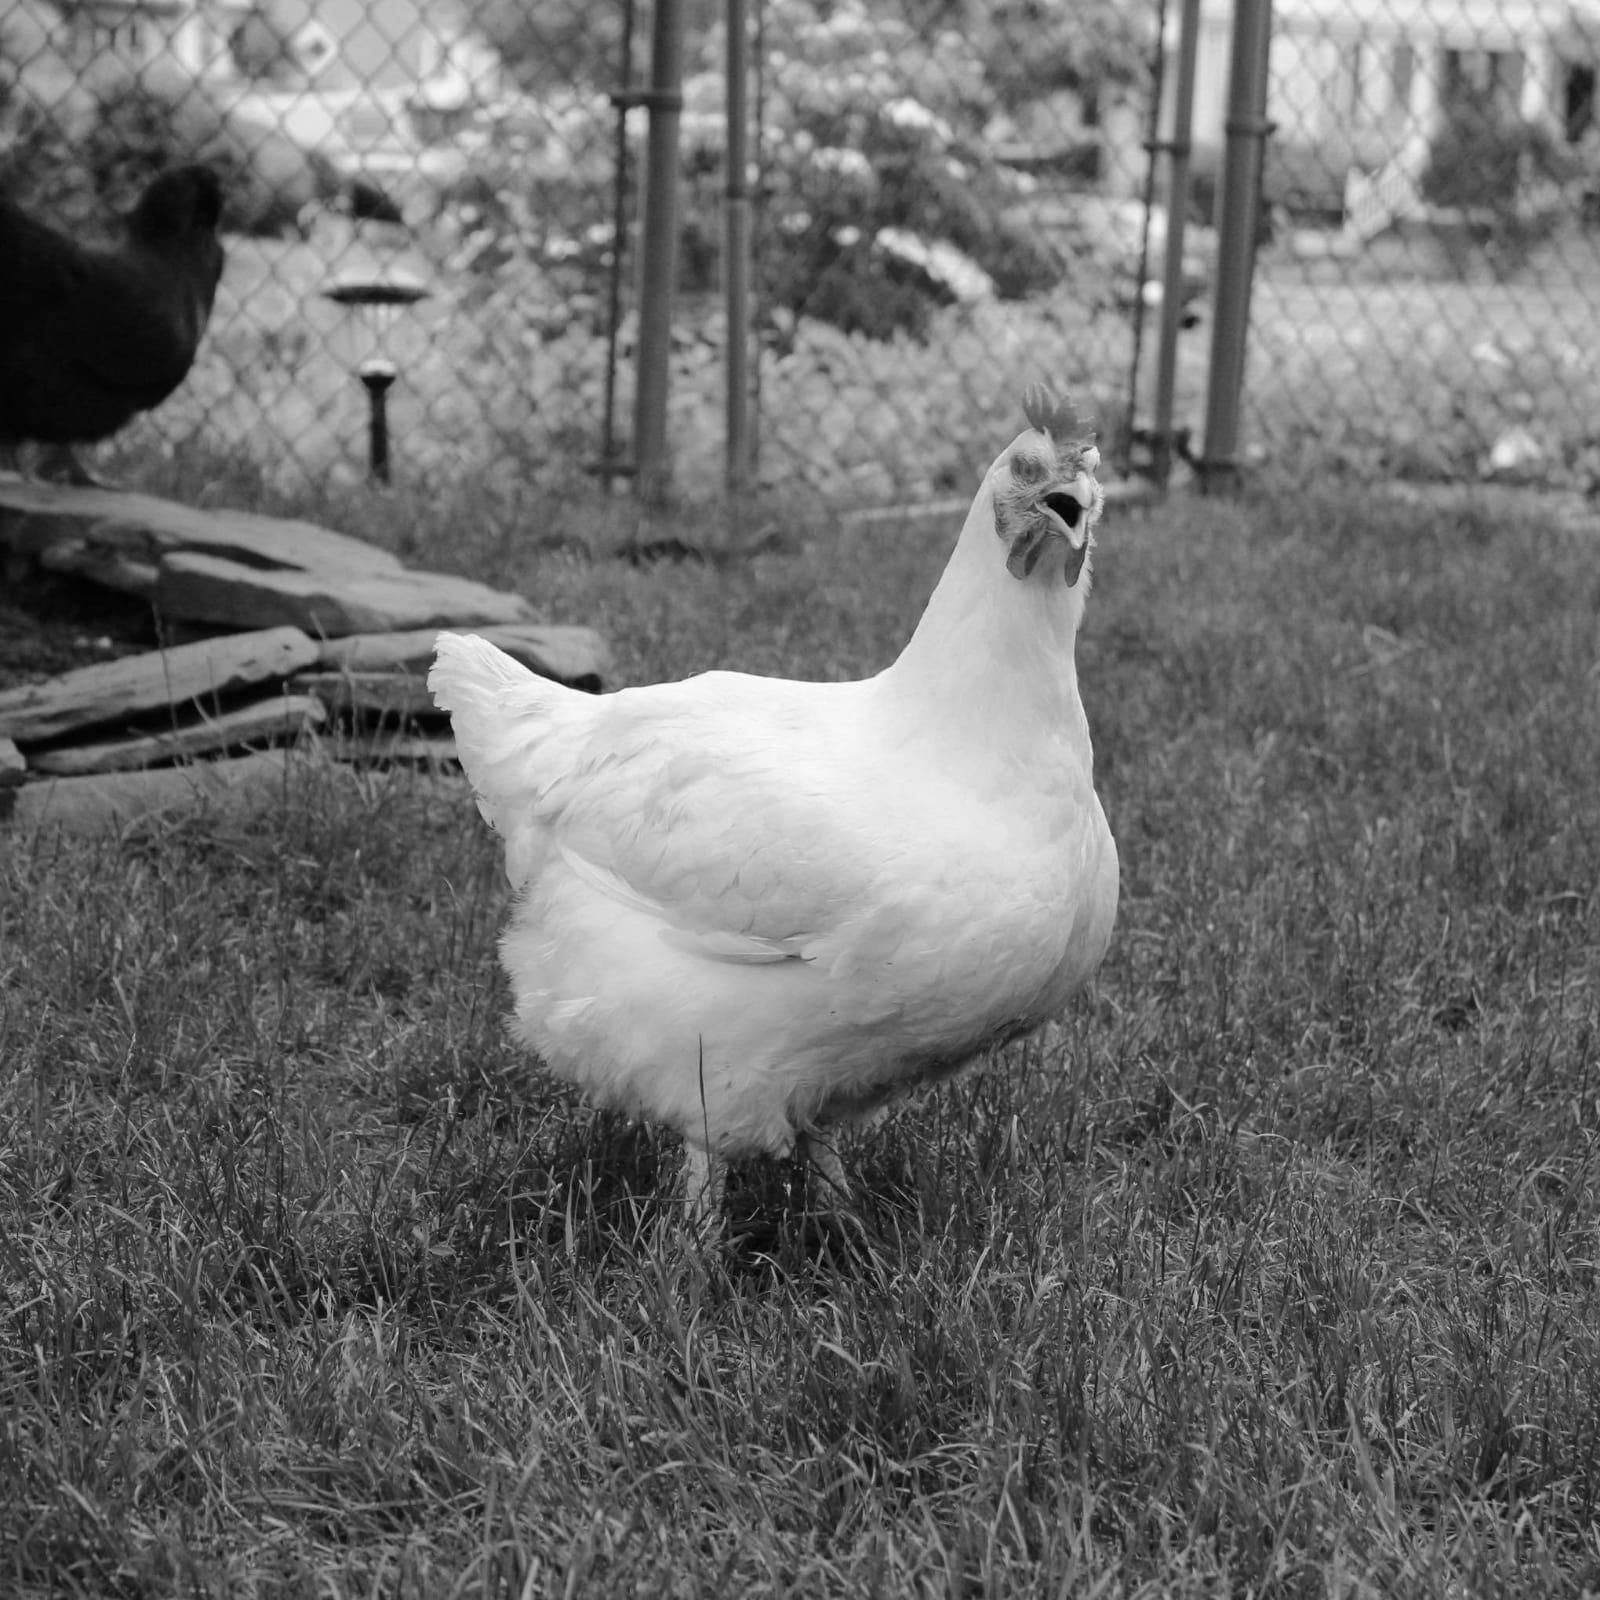Healthy: (426, 385, 1174, 1238)
